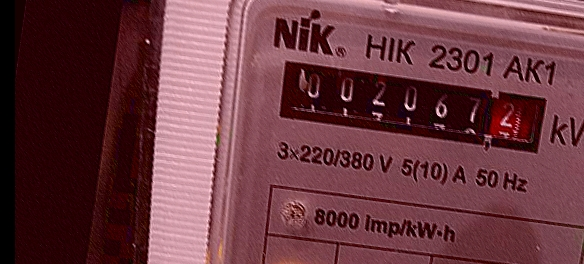0: (303, 69, 325, 100), (337, 72, 358, 103), (400, 80, 421, 111)
2: (497, 97, 519, 128), (370, 76, 391, 107)
6: (432, 88, 454, 119)
7: (464, 93, 484, 125)
screen: (263, 45, 563, 167)
